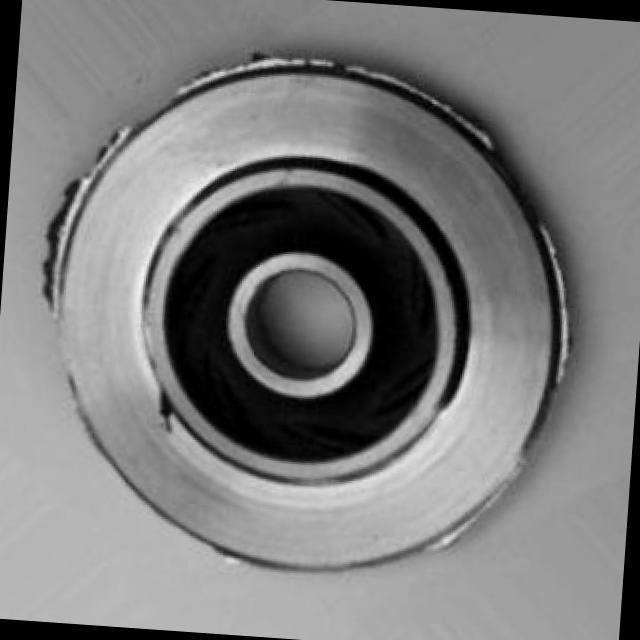Defect: (46, 188, 79, 250)
